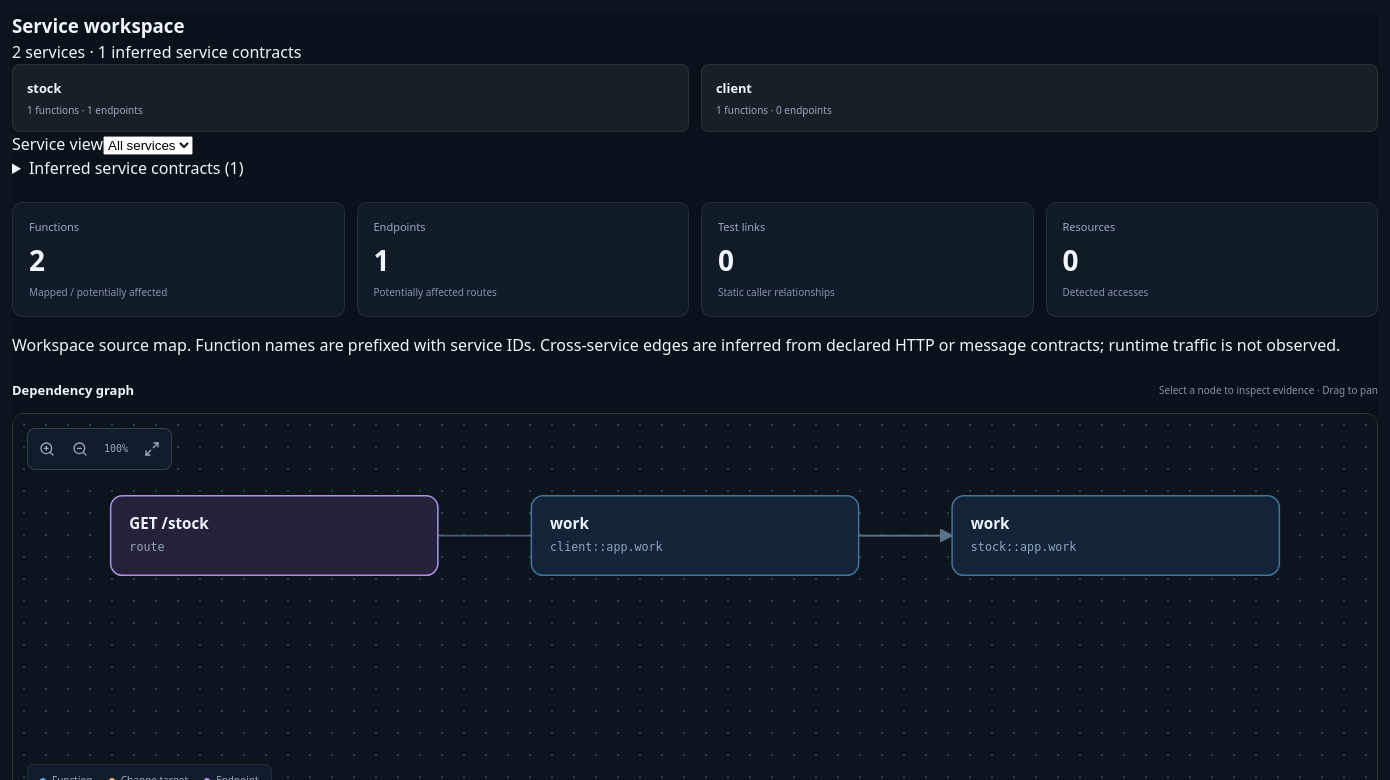
shows workspace totals, namespaced functions, and per-service details
Expected: the element named "Workspace overview" shows "2 services · 1 inferred service contracts", [12, 12, 1378, 180]
Expected: the text "2" is shown, [29, 241, 44, 279]
Select "stock" in the dropdown labelled "Service view": (148, 145) [103, 136, 193, 155]
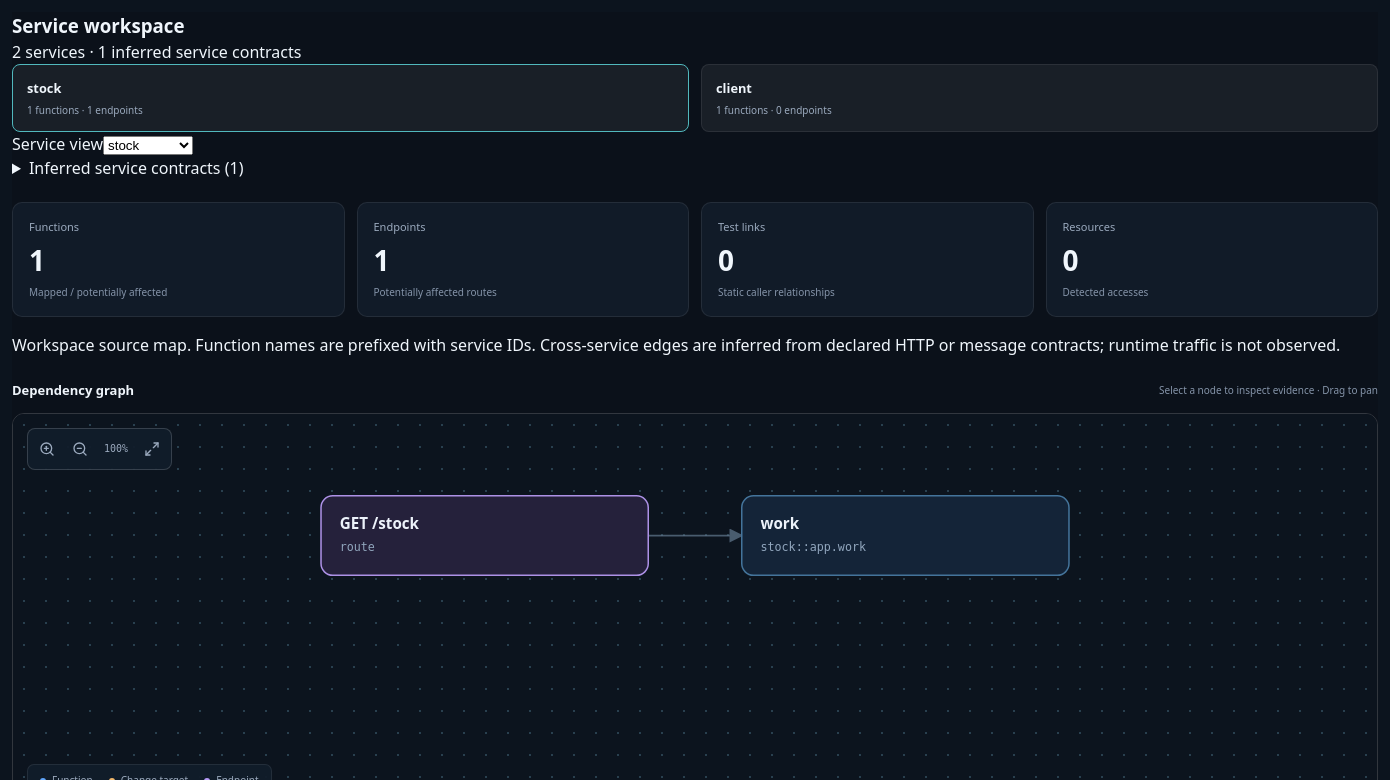
Now the 1st text "1" is shown, box [29, 241, 44, 279]
